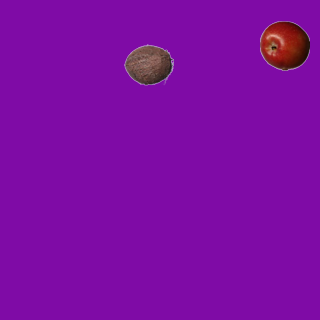Apple Braeburn: (259, 20, 309, 70)
Cocos: (123, 39, 173, 89)
